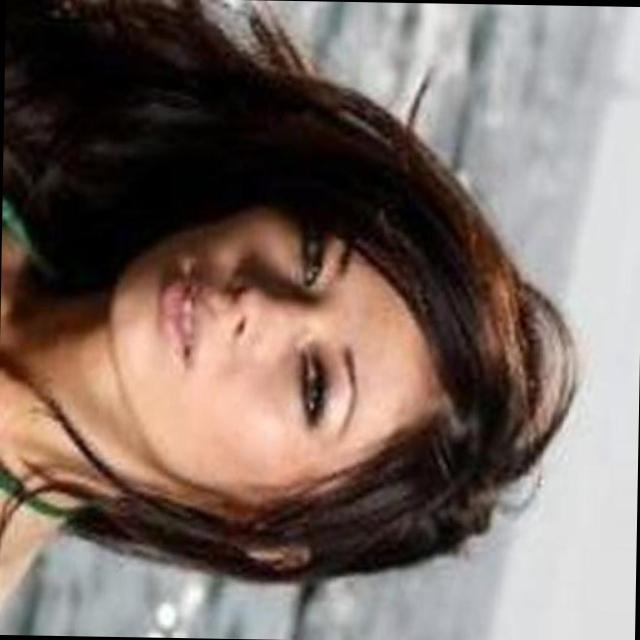bareface: (106, 130, 528, 586)
